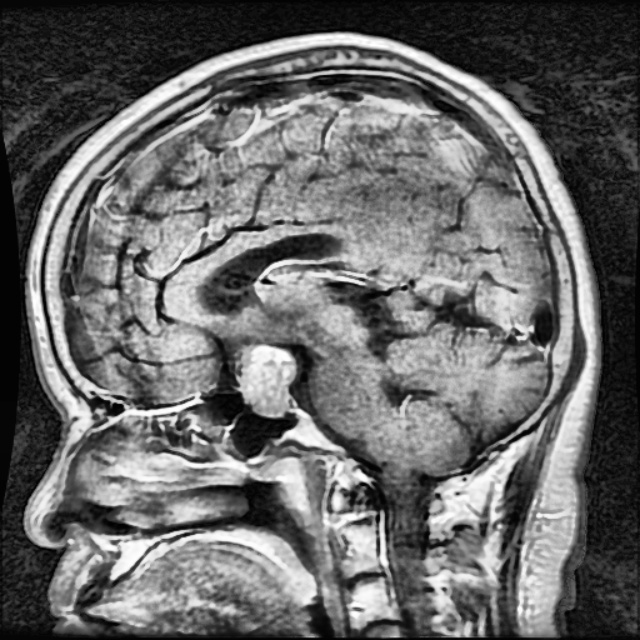Pituitary: (235, 345, 294, 419)
